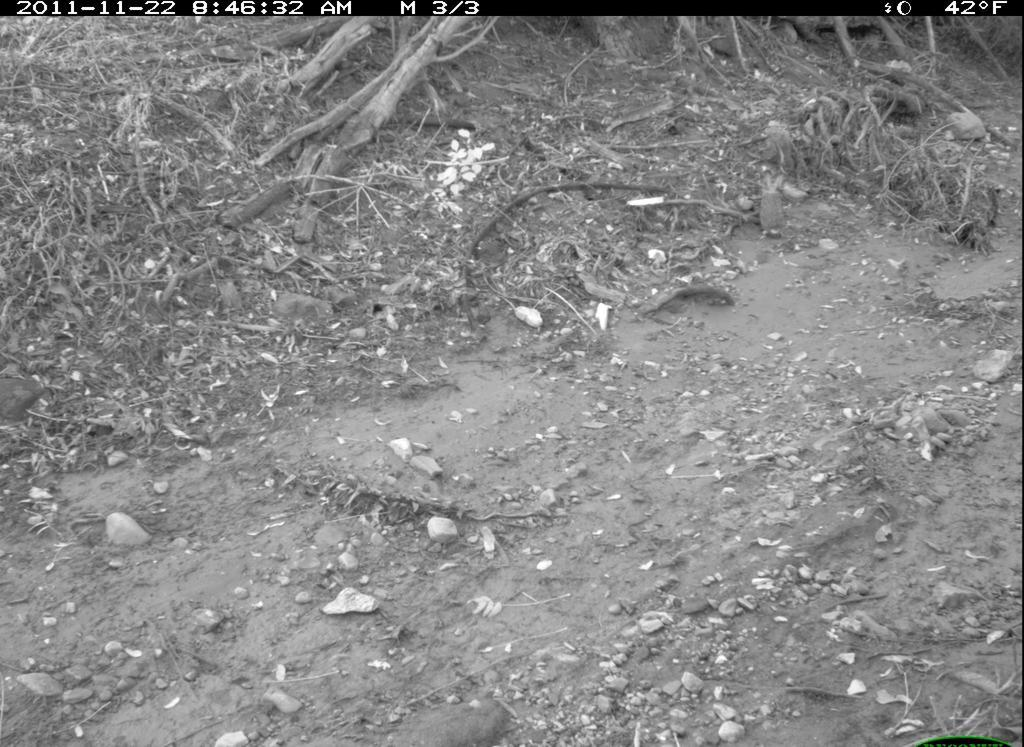rabbit: (752, 162, 803, 241)
